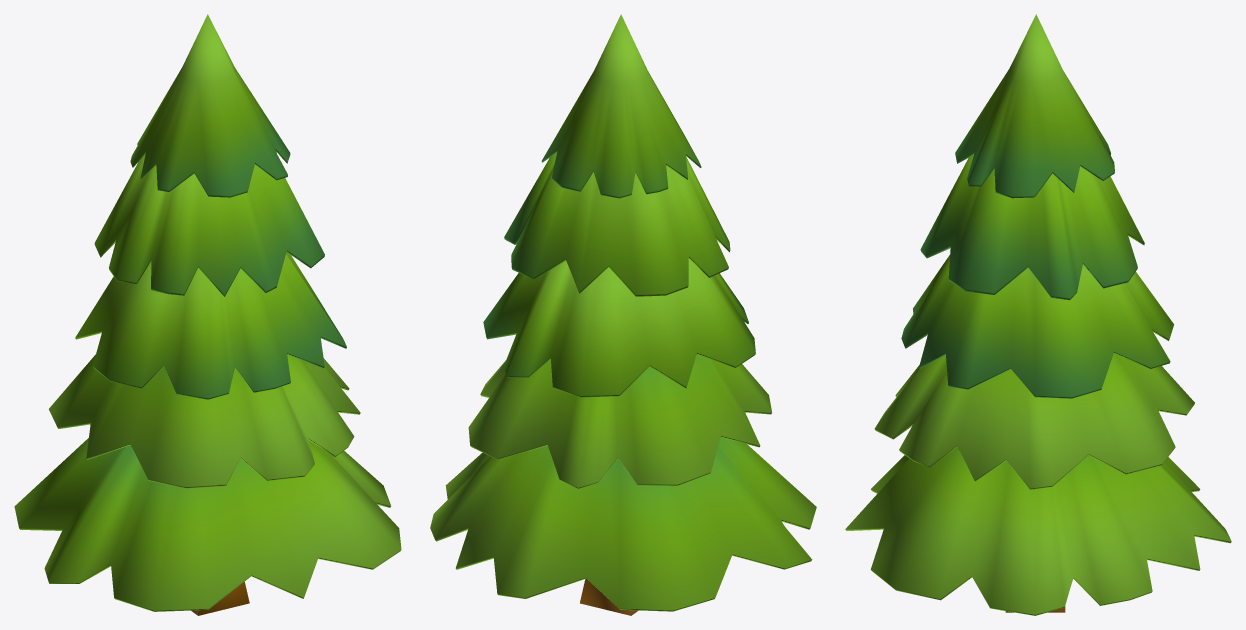
Rendered from LowPoly_tree.fbx.
3 views of the same model, side by side, from view 1: azimuth 30°, elevation 25°; view 2: azimuth 150°, elevation 25°; view 3: azimuth 270°, elevation 25° (orthographic).
Parts seen in each view (by area): view 1: Circle, Circle.001, Circle.002, Circle.003, Circle.004, Cube; view 2: Circle, Circle.001, Circle.002, Circle.003, Circle.004, Cube; view 3: Circle, Circle.001, Circle.002, Circle.003, Circle.004.
Boxes of the visible parts, left/top/right/bottom form: Circle: left=14, top=438, right=401, bottom=611; Circle.001: left=49, top=354, right=360, bottom=488; Circle.002: left=75, top=252, right=346, bottom=399; Circle.003: left=94, top=154, right=324, bottom=296; Circle.004: left=130, top=14, right=290, bottom=197; Cube: left=191, top=582, right=249, bottom=615; Circle: left=430, top=437, right=816, bottom=611; Circle.001: left=468, top=354, right=772, bottom=488; Circle.002: left=483, top=258, right=755, bottom=397; Circle.003: left=504, top=153, right=730, bottom=296; Circle.004: left=541, top=14, right=701, bottom=198; Cube: left=580, top=578, right=638, bottom=615; Circle: left=845, top=447, right=1231, bottom=615; Circle.001: left=874, top=353, right=1194, bottom=489; Circle.002: left=901, top=255, right=1173, bottom=398; Circle.003: left=920, top=155, right=1144, bottom=299; Circle.004: left=955, top=14, right=1114, bottom=198.
Bounding box in the file's own units: 213 × 339 × 203.
